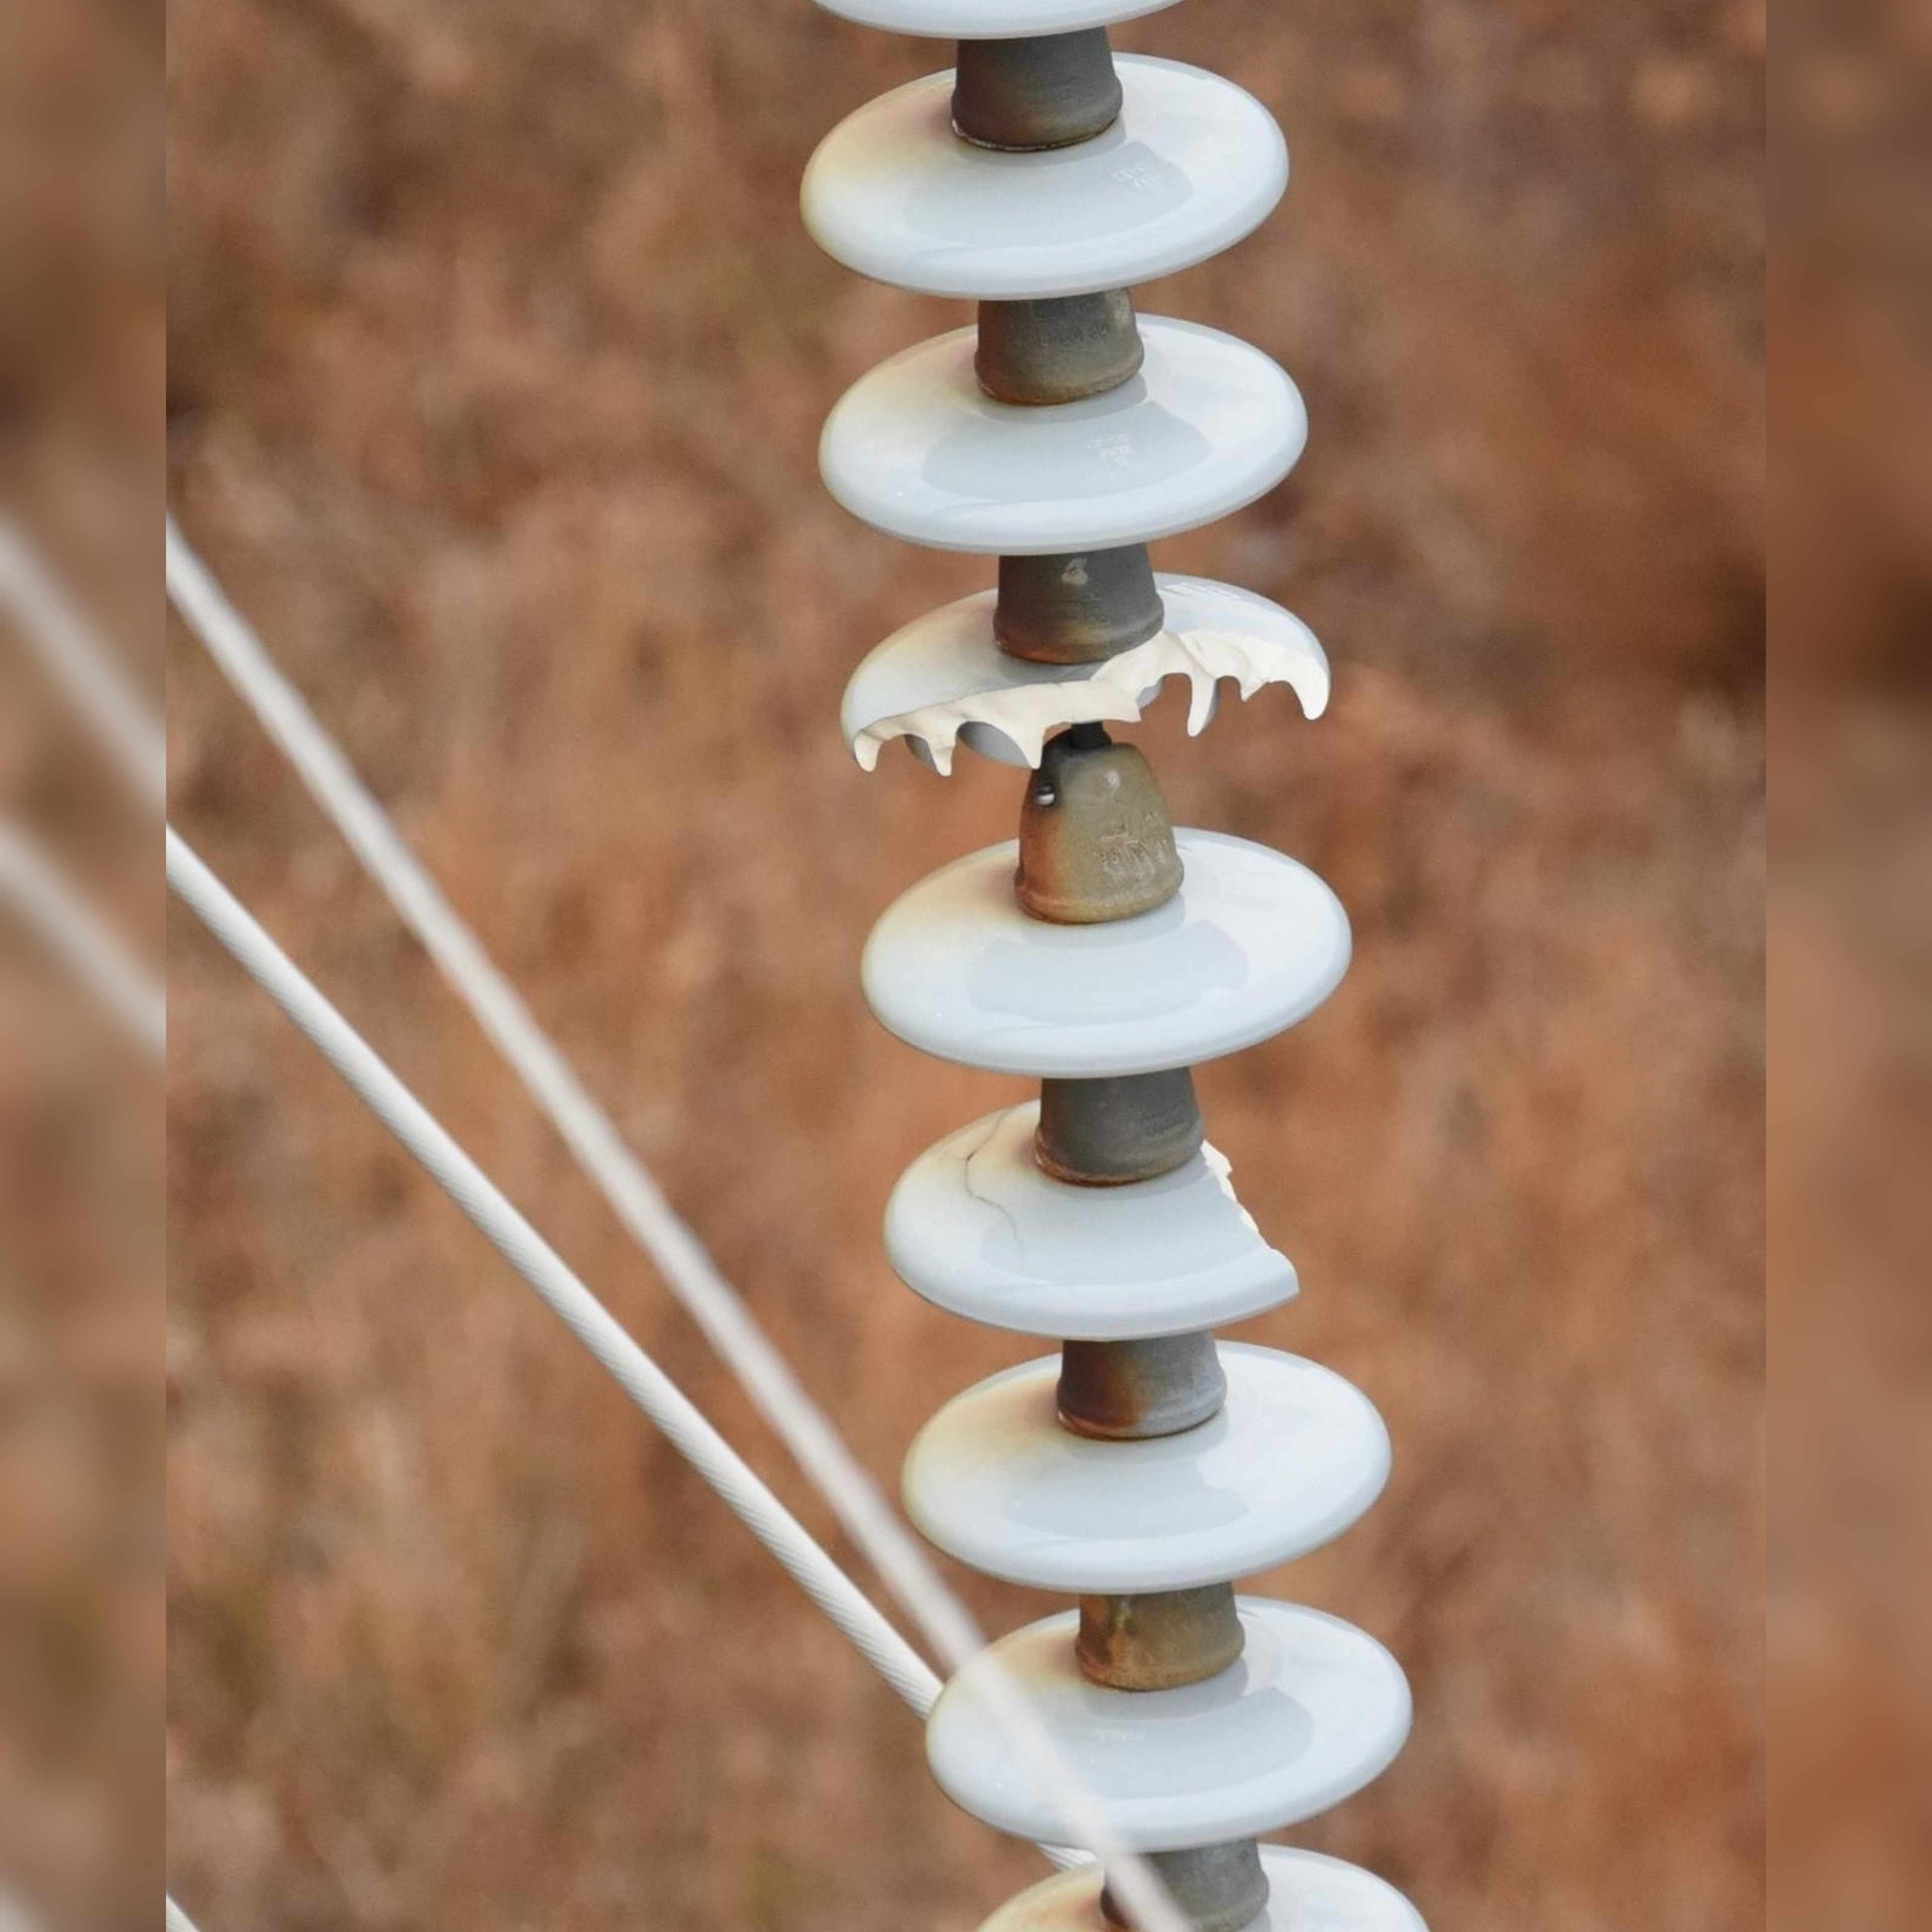insulator breakage: (809, 570, 1364, 803)
